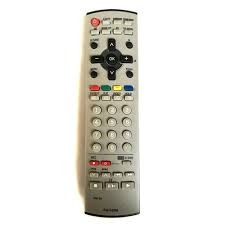remote control: (78, 0, 148, 223)
